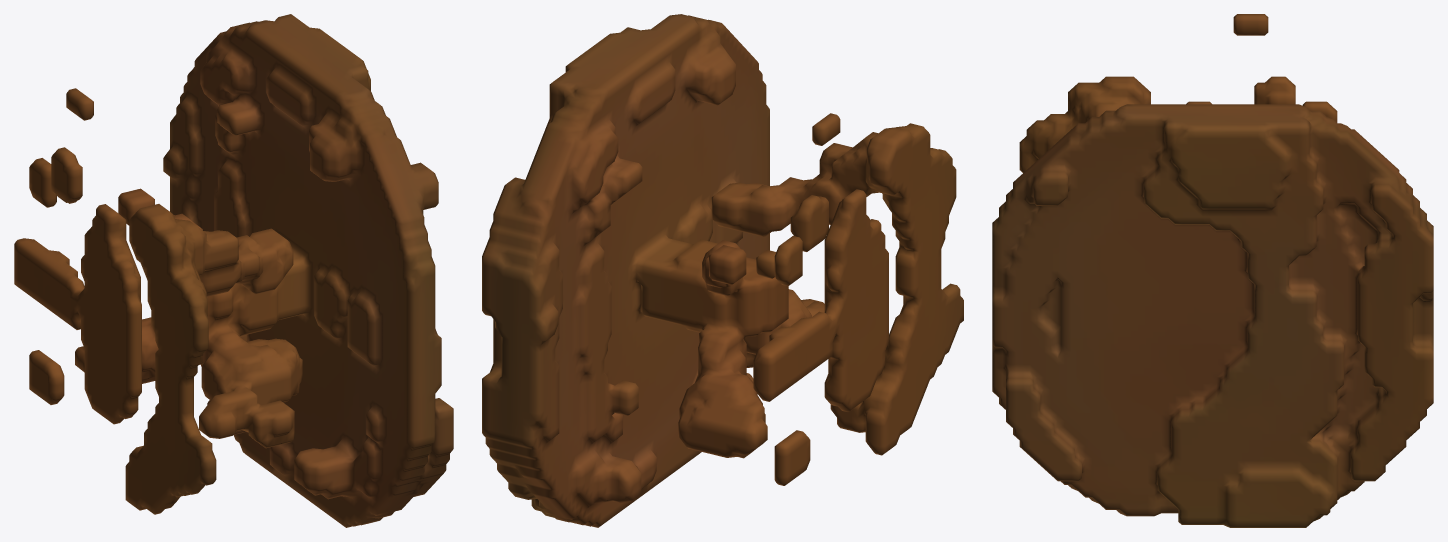
The model's file is A round wooden table with a circular top and four .glb.
The picture shows the model from 3 angles, left to right: view 1: azimuth 30°, elevation 25°; view 2: azimuth 150°, elevation 25°; view 3: azimuth 270°, elevation 25°; orthographic projection. The views are drawn at different scales.
Visible parts, largest first — view 1: A round wooden table with a circular top and four; view 2: A round wooden table with a circular top and four; view 3: A round wooden table with a circular top and four.
Boxes of the visible parts, x1,y1,x2,y2 form: A round wooden table with a circular top and four: [14, 14, 453, 527]; A round wooden table with a circular top and four: [482, 14, 963, 527]; A round wooden table with a circular top and four: [992, 14, 1433, 527].
Bounding box in the file's own units: 40 × 64 × 64.
